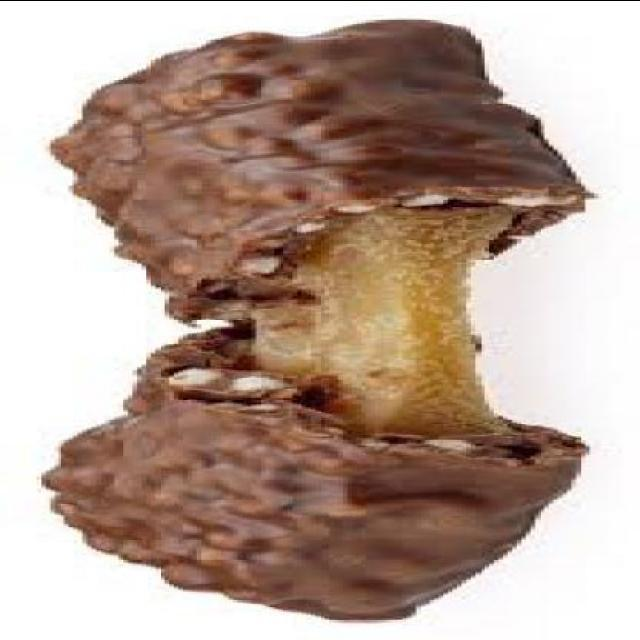Chocolate bar packaged: (22, 15, 562, 622)
